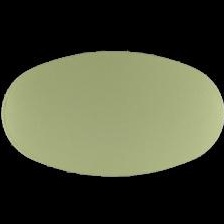50090-1176: (0, 0, 224, 224)
